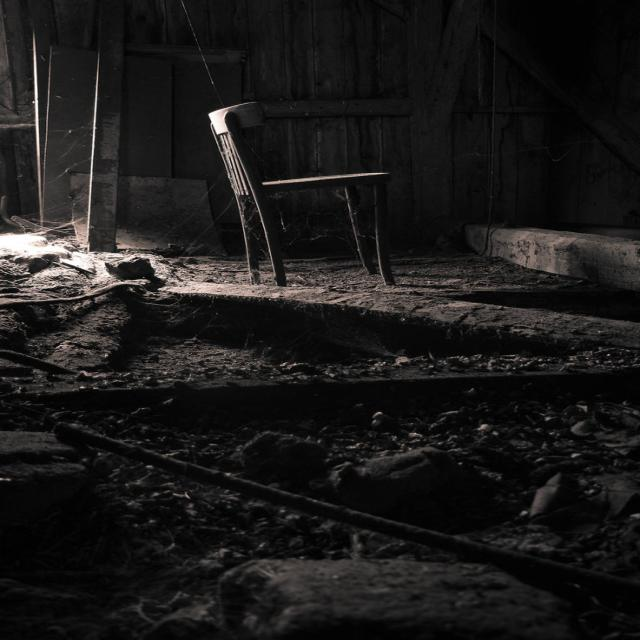chair: (194, 80, 427, 302)
